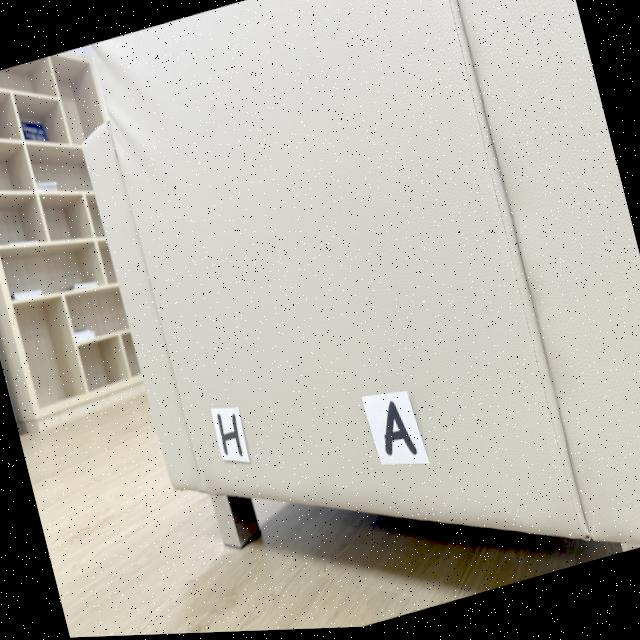A: (384, 404, 417, 458)
H: (217, 415, 242, 458)
